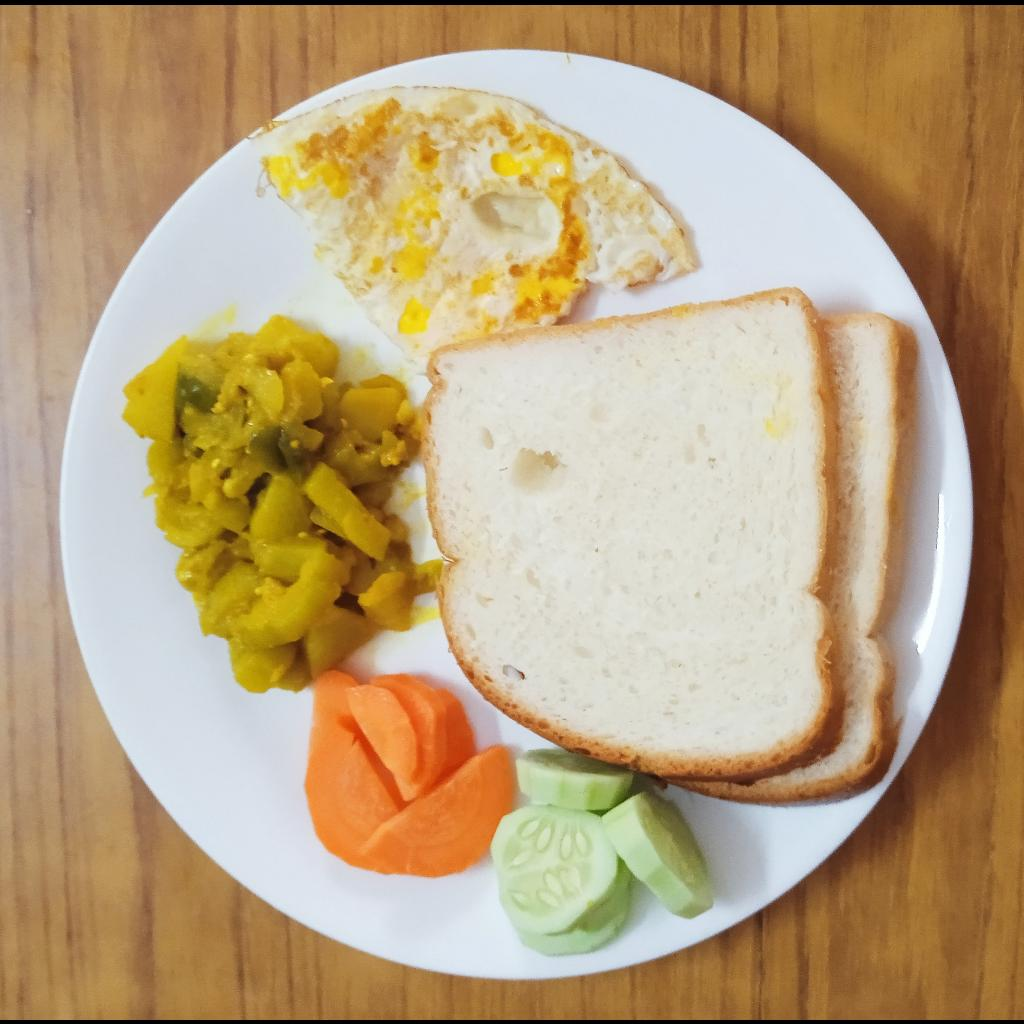bread: (421, 285, 920, 811)
carrot: (304, 669, 514, 878)
cucumber: (489, 747, 714, 959)
egg-poached: (250, 84, 696, 374)
lau: (120, 314, 441, 695)
